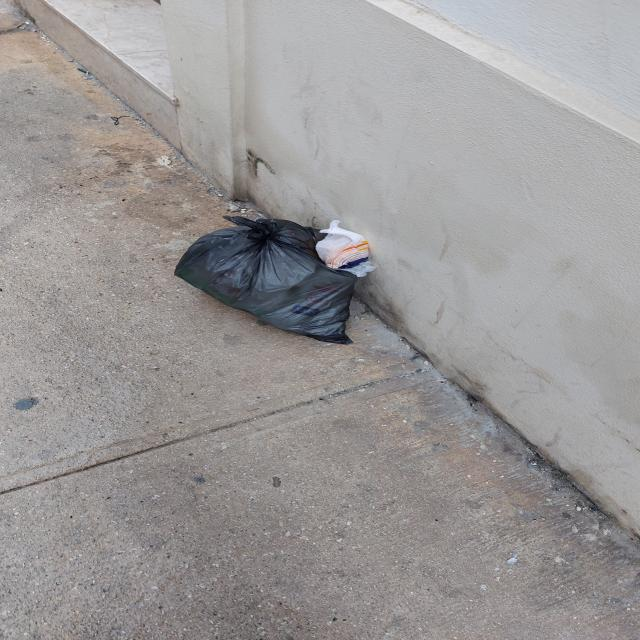Mixed Waste -Black Bag-: (173, 216, 359, 345)
Other: (309, 219, 378, 280)
